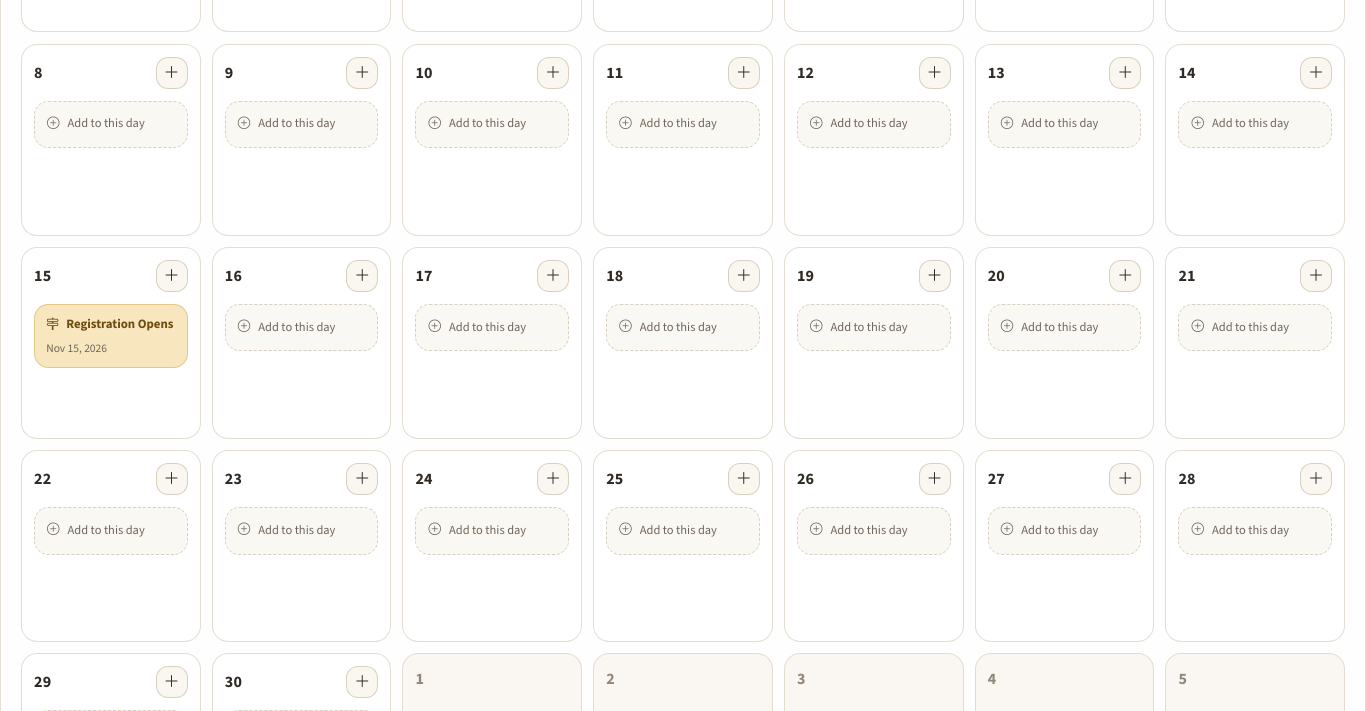
it: CampaignStudioScheduleSection › opens milestone details from a calendar item
(page scrolled)
Click the button named "registration opens, nov 15, 2026": point(111, 336) [34,304,188,368]
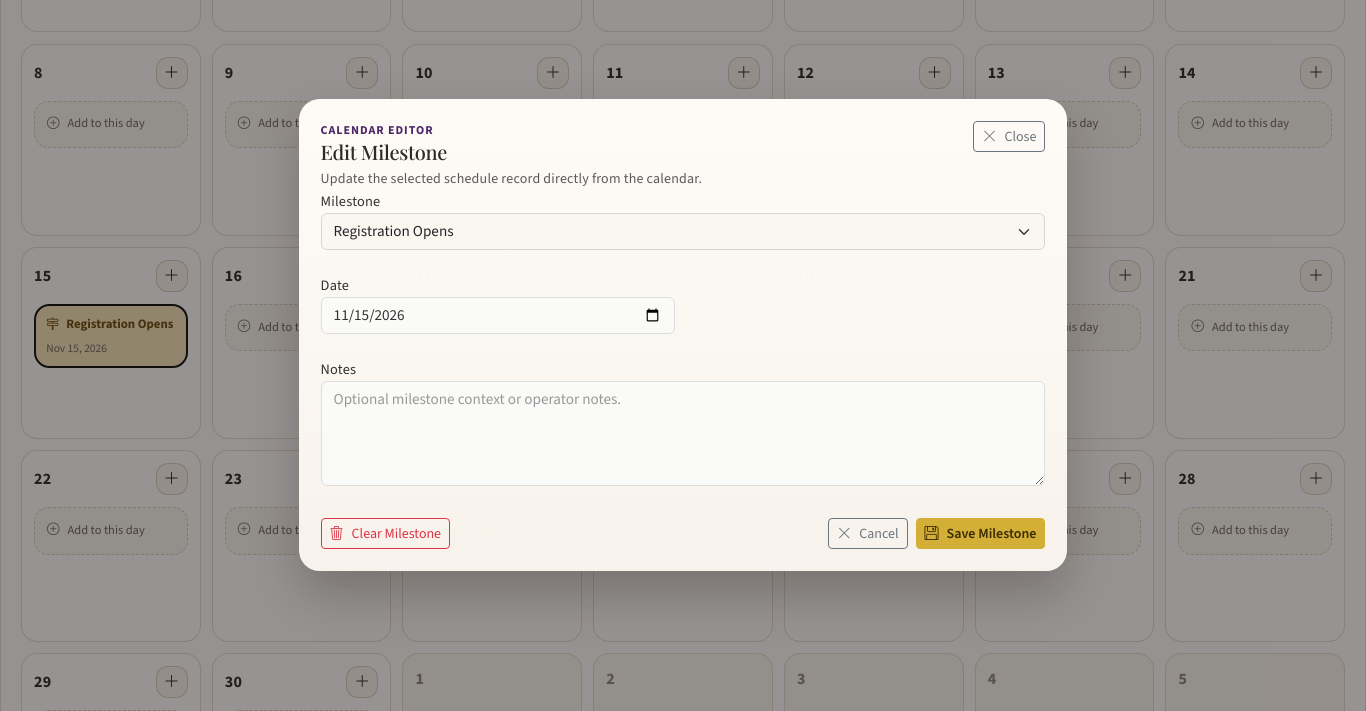
Now the heading "Edit Milestone" is shown, box [321,138,447,165]
Now the dropdown showing "Registration Opens" is shown, box [321,213,1045,250]
